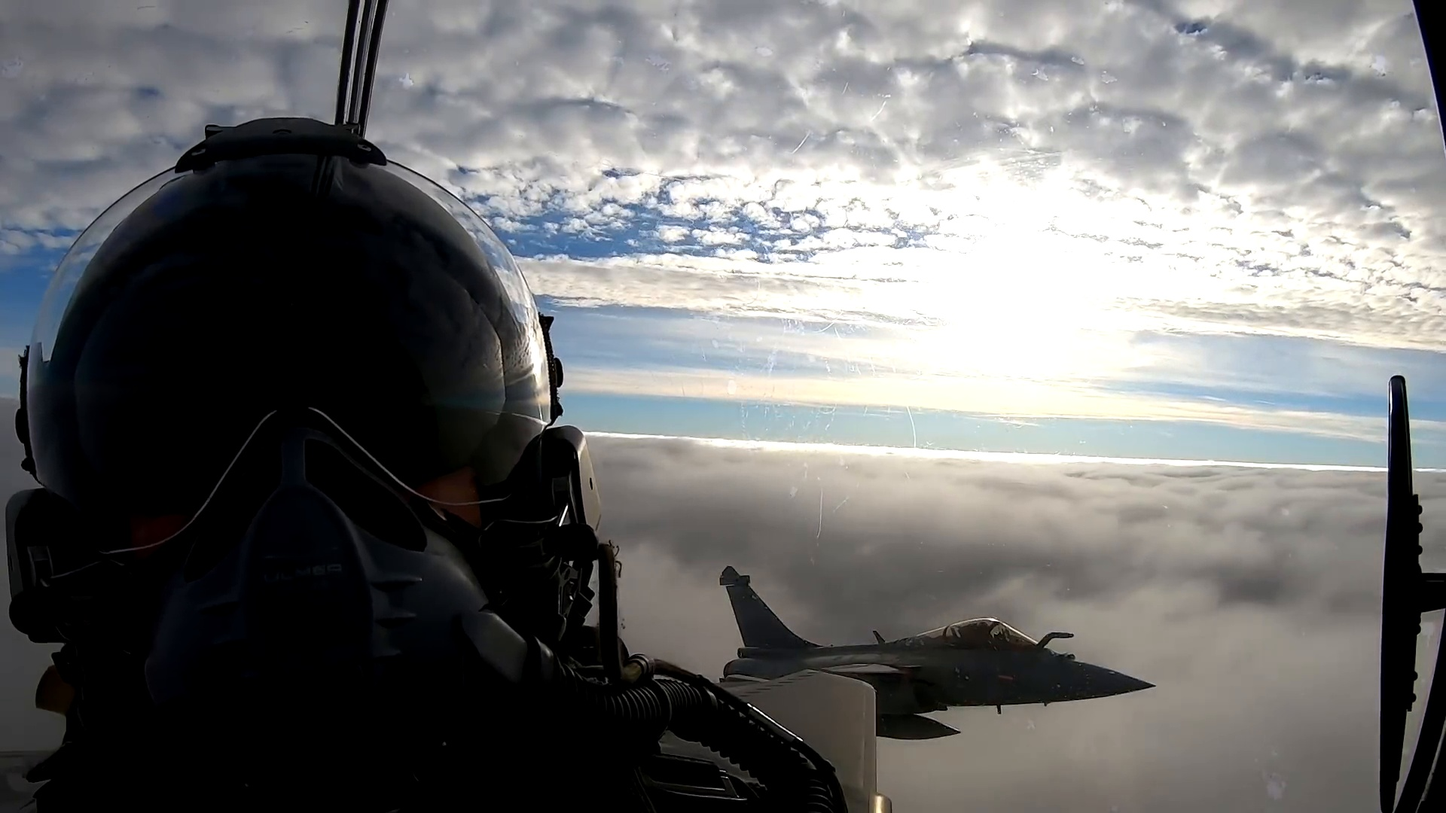Rafale: (716, 566, 1157, 741)
